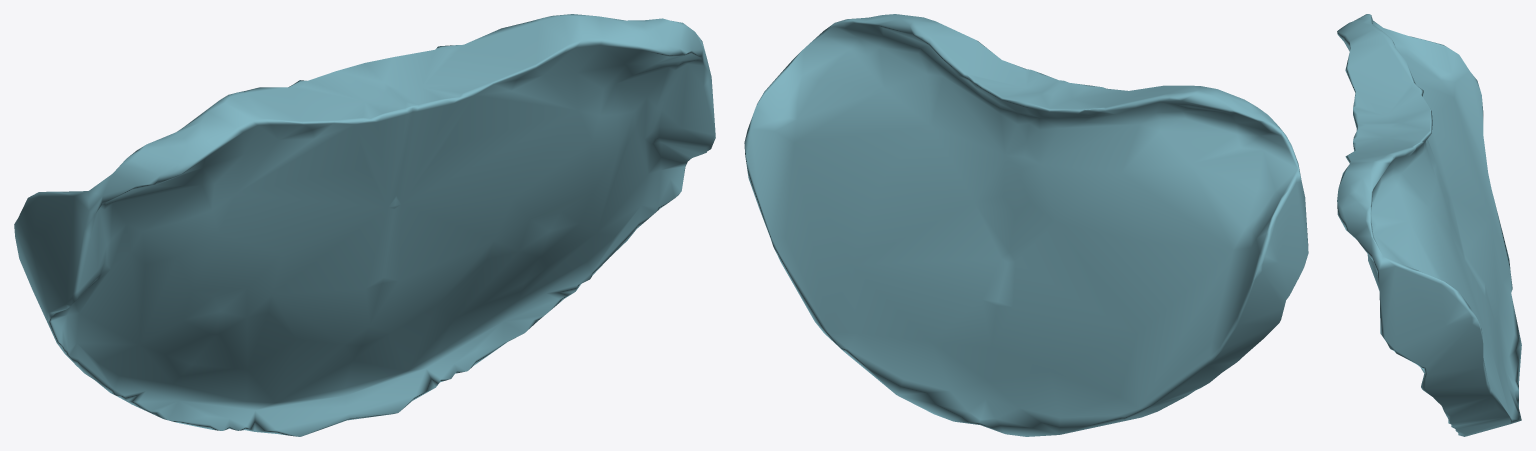
The picture shows the model from 3 angles, left to right: view 1: azimuth 30°, elevation 25°; view 2: azimuth 150°, elevation 25°; view 3: azimuth 270°, elevation 25°; orthographic projection. The views are drawn at different scales.
Parts seen in each view (by area): view 1: 胸1—胸2椎间盘; view 2: 胸1—胸2椎间盘; view 3: 胸1—胸2椎间盘.
Boxes of the visible parts, x1=… form: 胸1—胸2椎间盘: x1=14, y1=14, x2=715, y2=436; 胸1—胸2椎间盘: x1=744, y1=14, x2=1308, y2=436; 胸1—胸2椎间盘: x1=1337, y1=14, x2=1521, y2=436.
Size of the model in its own units: 0.0495 by 0.0296 by 0.016.
